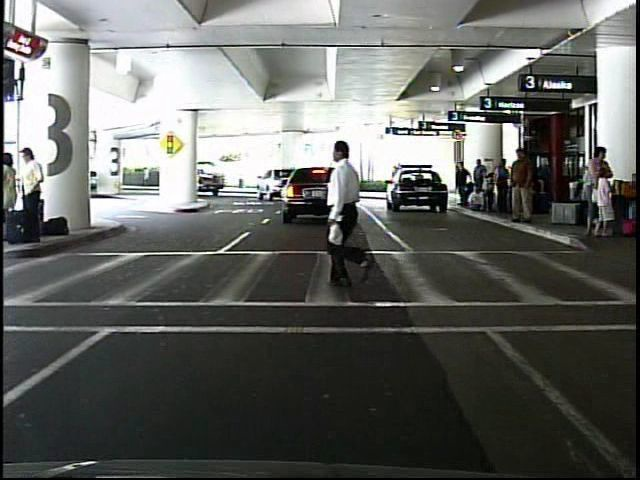person: (317, 132, 387, 296), (20, 146, 48, 246), (507, 144, 538, 226), (3, 150, 31, 237), (455, 163, 472, 210), (141, 163, 153, 190)
